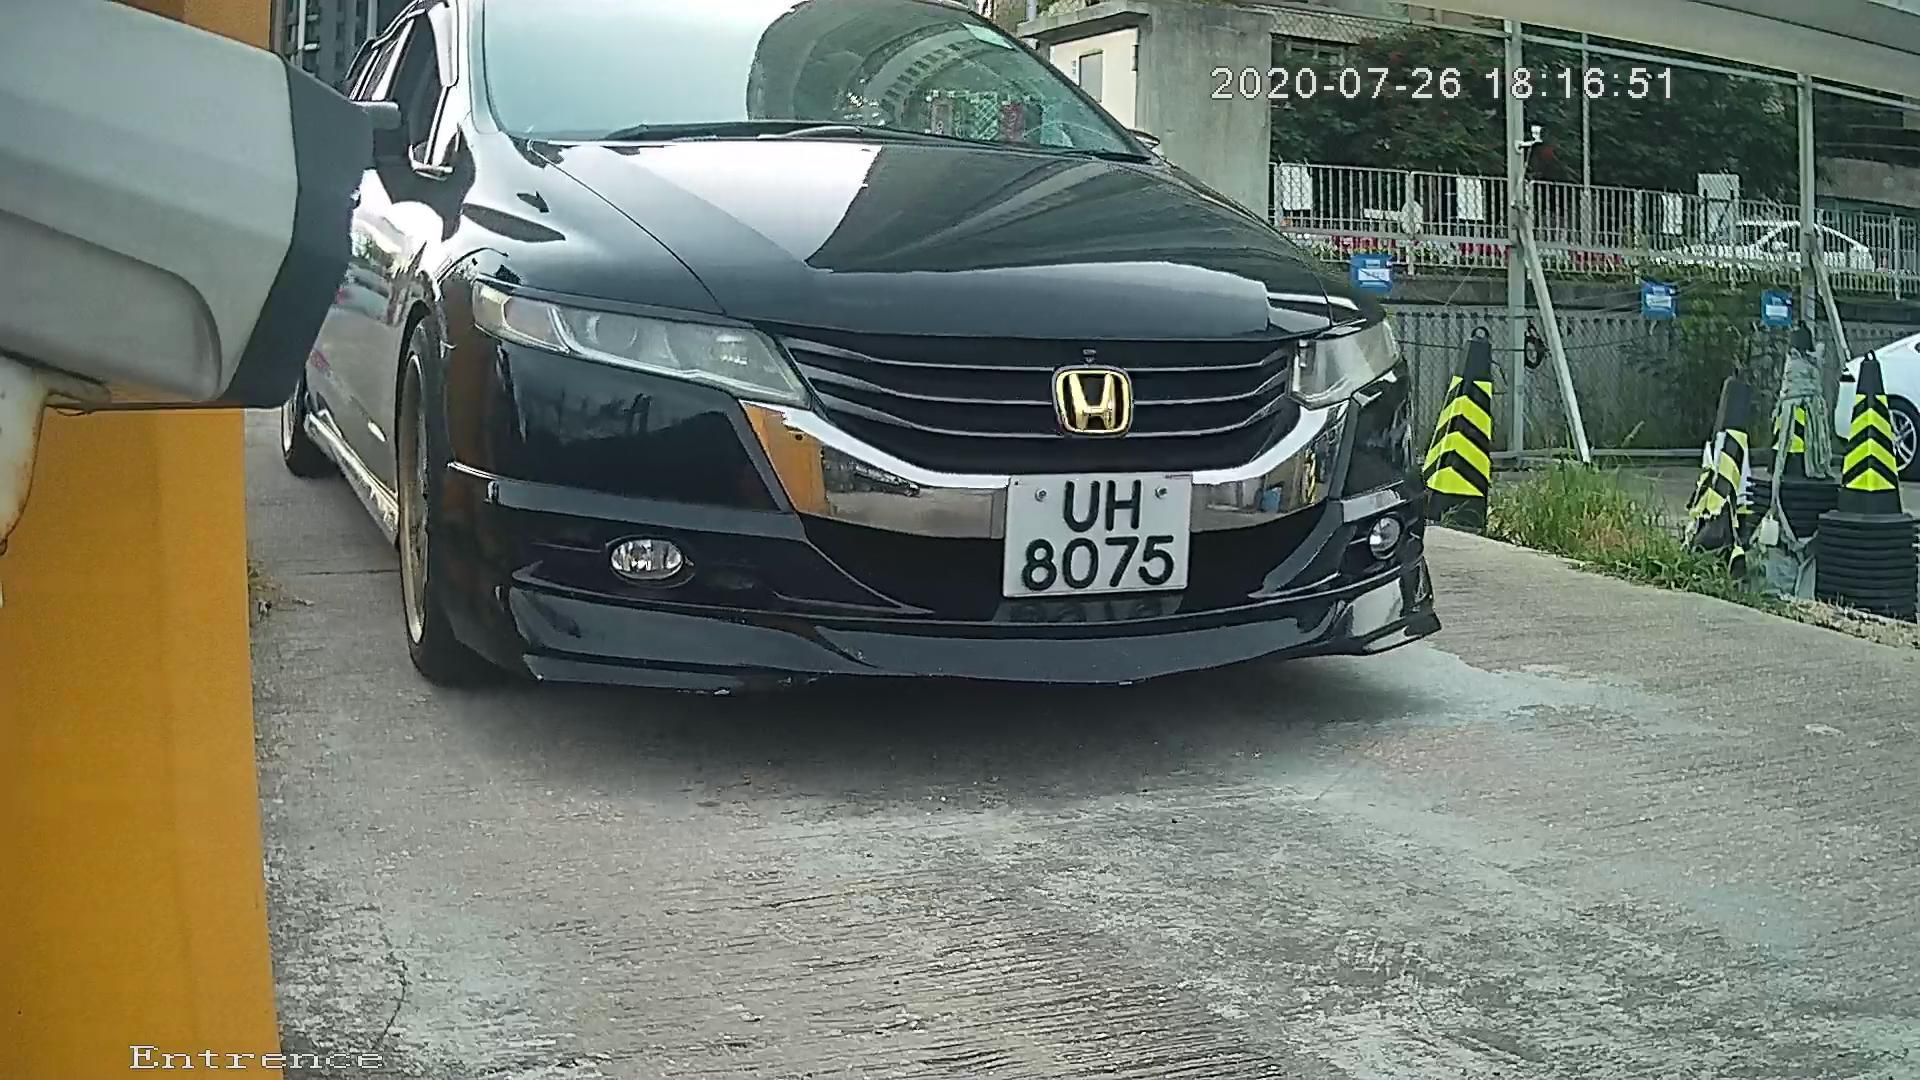License Plate: (969, 463, 1209, 608)
